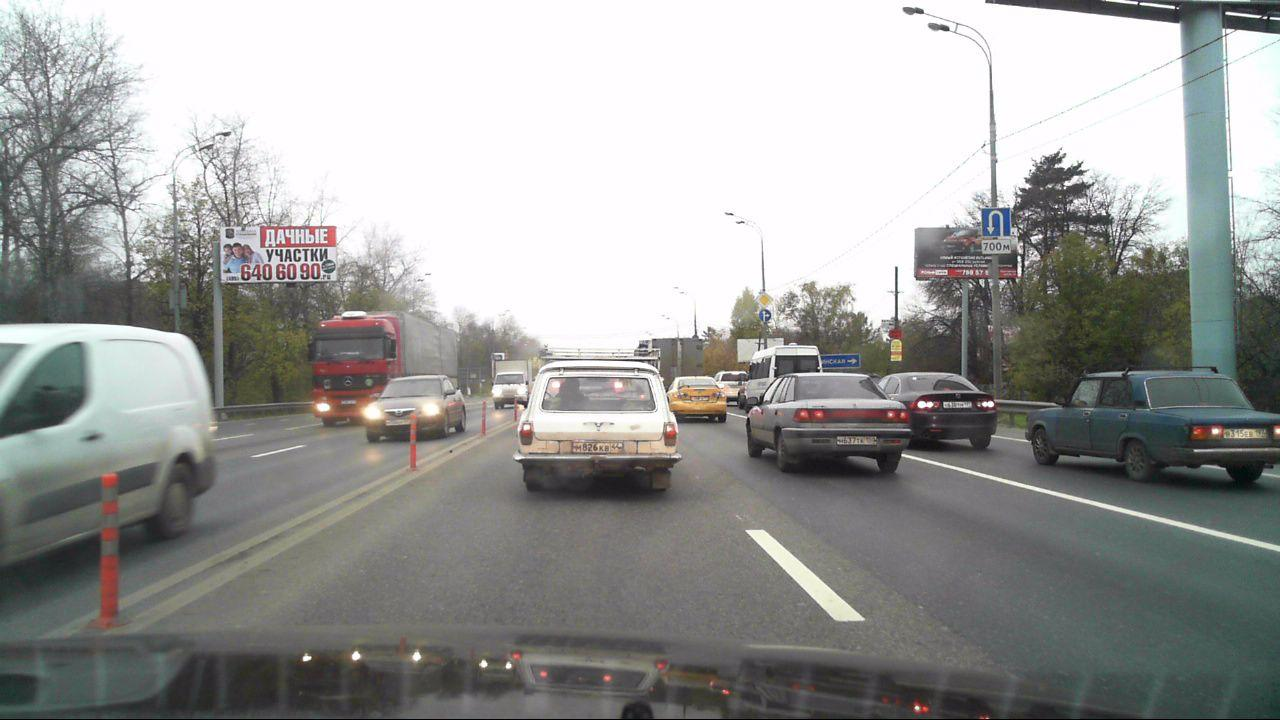2_1: (756, 291, 774, 308)
4_1_4: (757, 309, 772, 322)
6_10_1: (820, 354, 863, 368)
6_3_1: (980, 207, 1010, 237)
8_1_1: (982, 239, 1013, 256)
